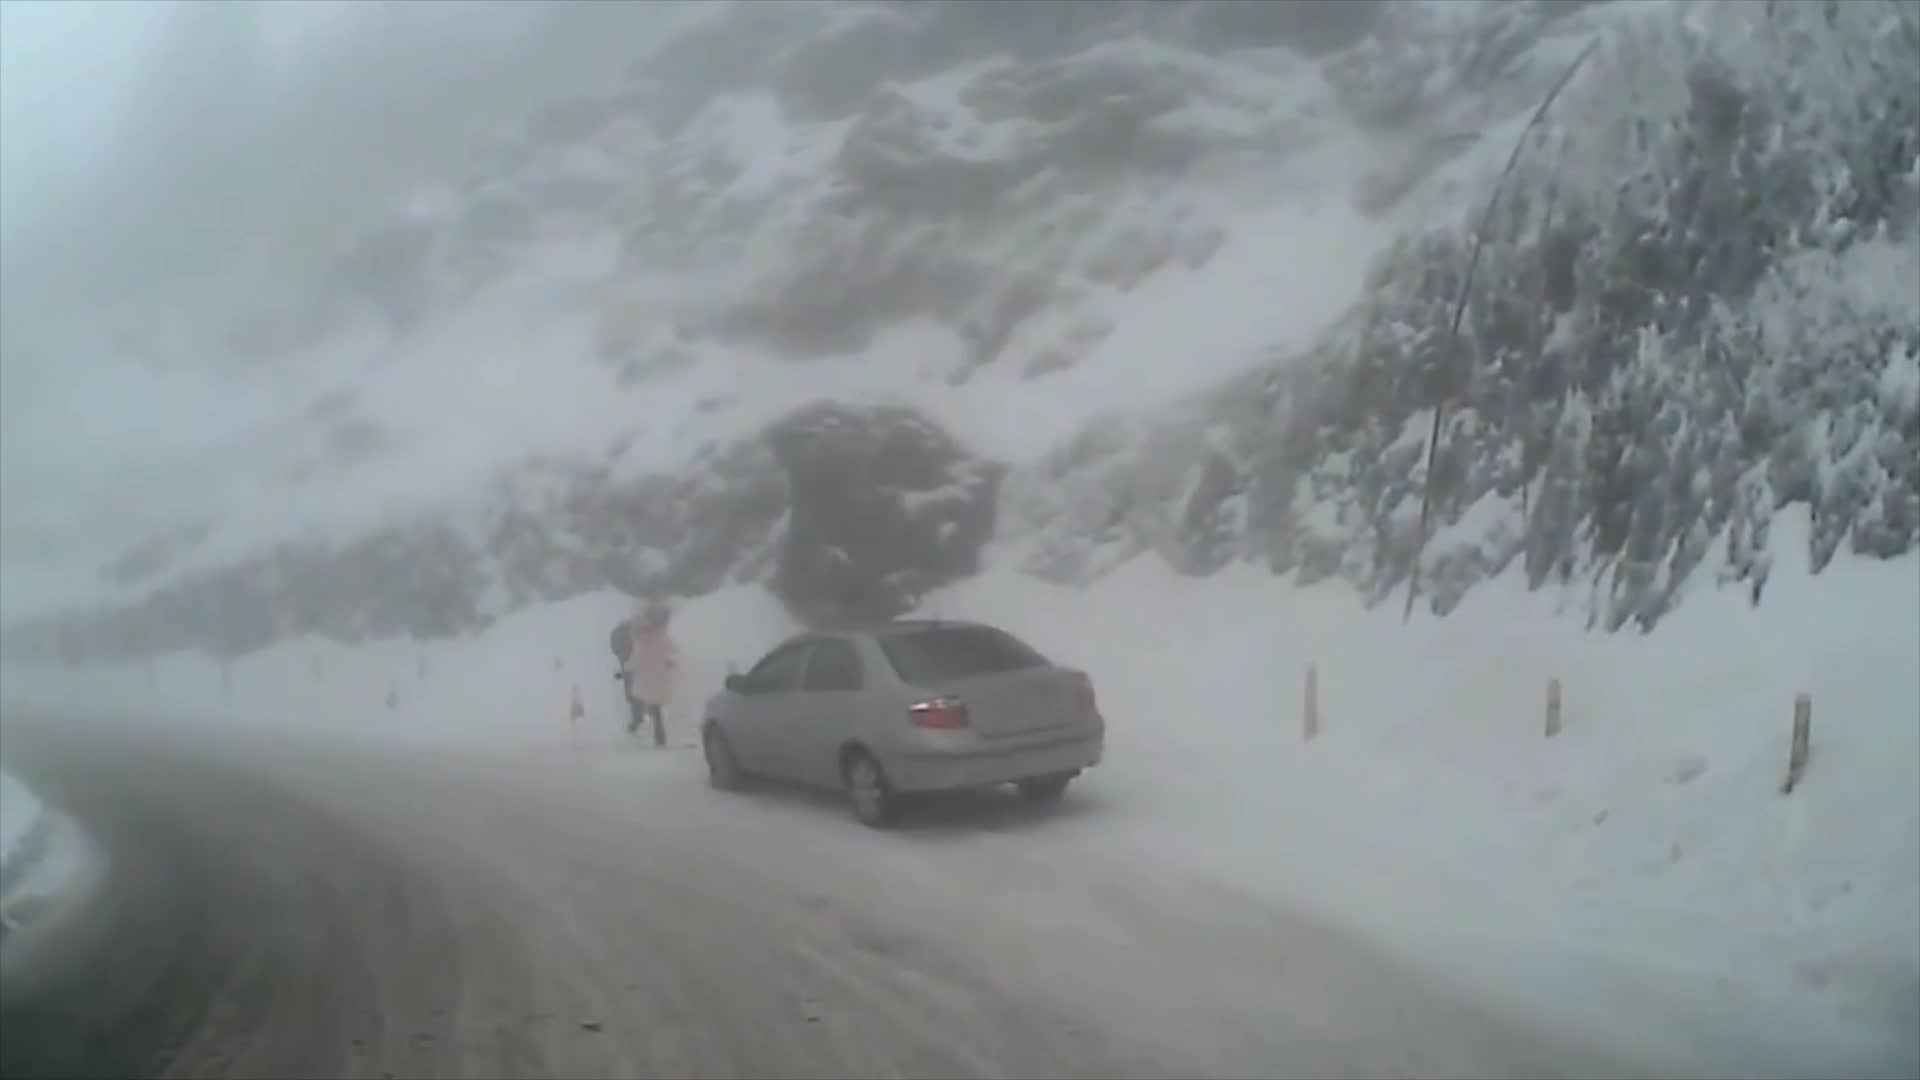pedestrian: (611, 598, 689, 748)
vehicle: (697, 619, 1105, 831)
